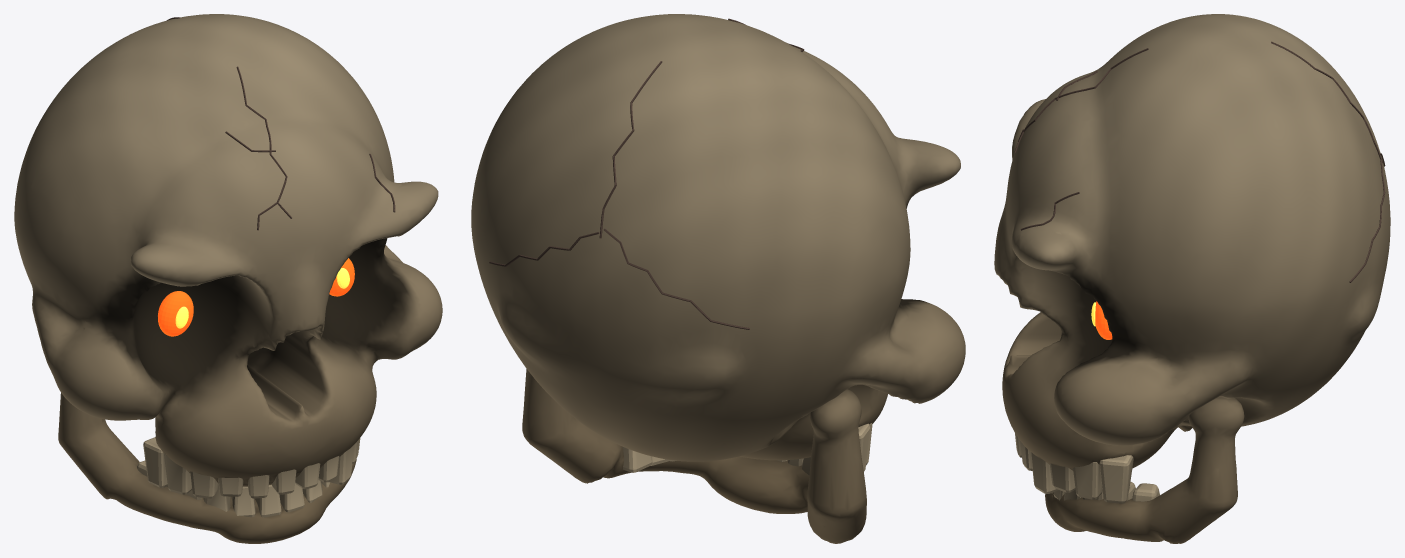
The model's file is skull.glb.
3 renders of one model, left to right at view 1: azimuth 30°, elevation 25°; view 2: azimuth 150°, elevation 25°; view 3: azimuth 270°, elevation 25°, orthographic. The views are drawn at different scales.
Visible parts, largest first — view 1: Cranium, Mandible, UpperTeeth, LowerTeeth, EmberEyeL, BoneSutures; view 2: Cranium, Mandible, BoneSutures, LowerTeeth; view 3: Cranium, Mandible, UpperTeeth, BoneSutures, LowerTeeth.
Part boxes in pixels (x1,y1,x2,y2): Cranium: [14, 14, 442, 486]; Mandible: [58, 393, 356, 543]; UpperTeeth: [143, 437, 360, 498]; LowerTeeth: [137, 460, 330, 517]; EmberEyeL: [158, 291, 193, 336]; BoneSutures: [167, 17, 395, 230]; Cranium: [471, 14, 965, 461]; Mandible: [522, 369, 866, 543]; BoneSutures: [489, 18, 804, 329]; LowerTeeth: [623, 447, 810, 475]; Cranium: [994, 14, 1390, 470]; Mandible: [1045, 396, 1244, 543]; UpperTeeth: [1015, 433, 1133, 503]; BoneSutures: [1014, 41, 1385, 282]; LowerTeeth: [1051, 481, 1159, 501].
Bounding box in the file's own units: 1.05 × 1.25 × 0.9251.
